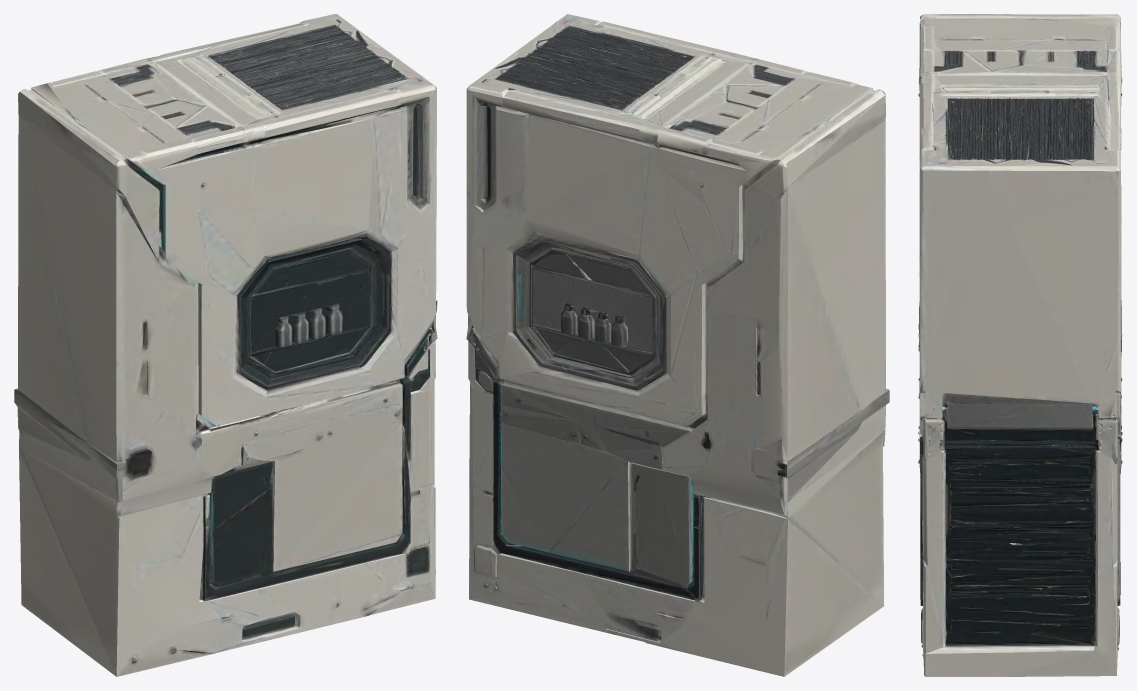
Rendered from wall.gltf.
3 renders of one model, left to right at view 1: azimuth 30°, elevation 25°; view 2: azimuth 150°, elevation 25°; view 3: azimuth 270°, elevation 25°, orthographic.
Bounding box in the file's own units: 1.24 × 1.9 × 0.6886.
1 material, 1 textured.
